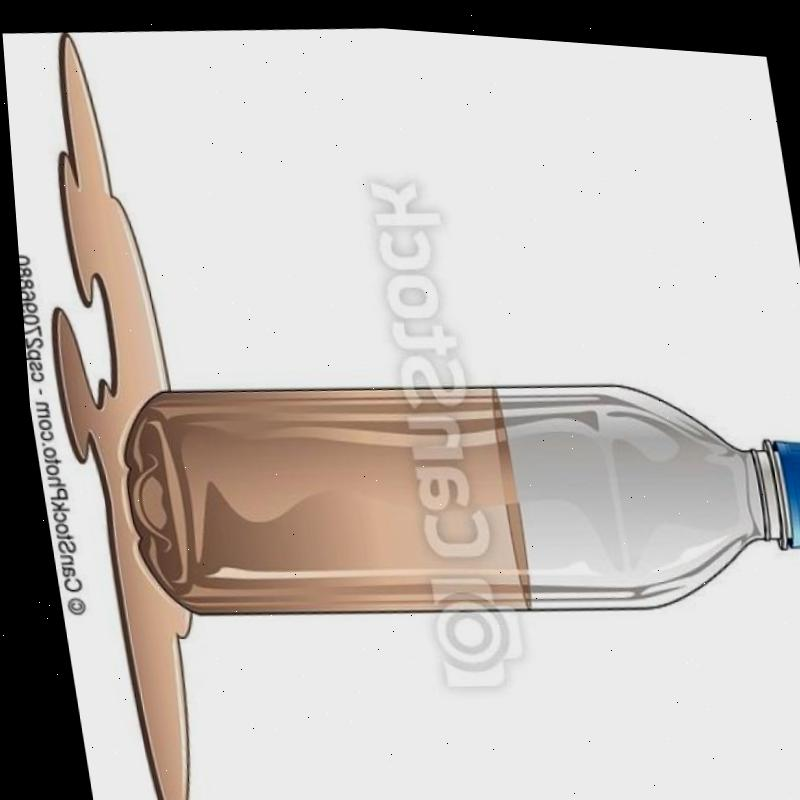botella: (95, 324, 800, 657)
